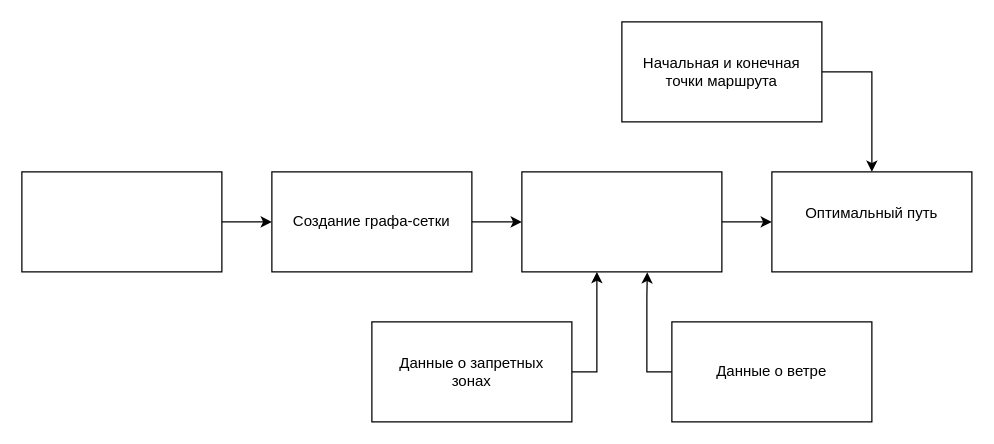
Image size: 994x444. Some labels were removed from this diagram. Here are the shapes that lost their labels. From the top down, the centre of each, then its label:
point (121, 221): JSON/CSV-файл с координатами промежуточных пунктов маршрута
point (621, 221): Заполнение весов ребер графа
